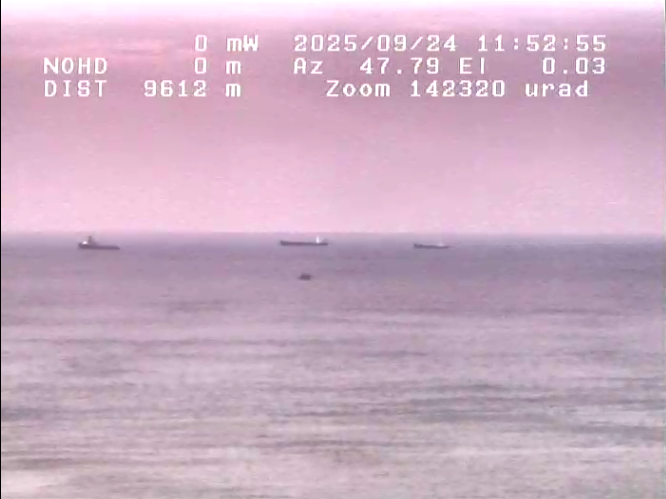TANKER: (264, 225, 339, 251), (404, 233, 476, 260), (73, 229, 124, 253)
TUGS: (288, 264, 320, 285)
